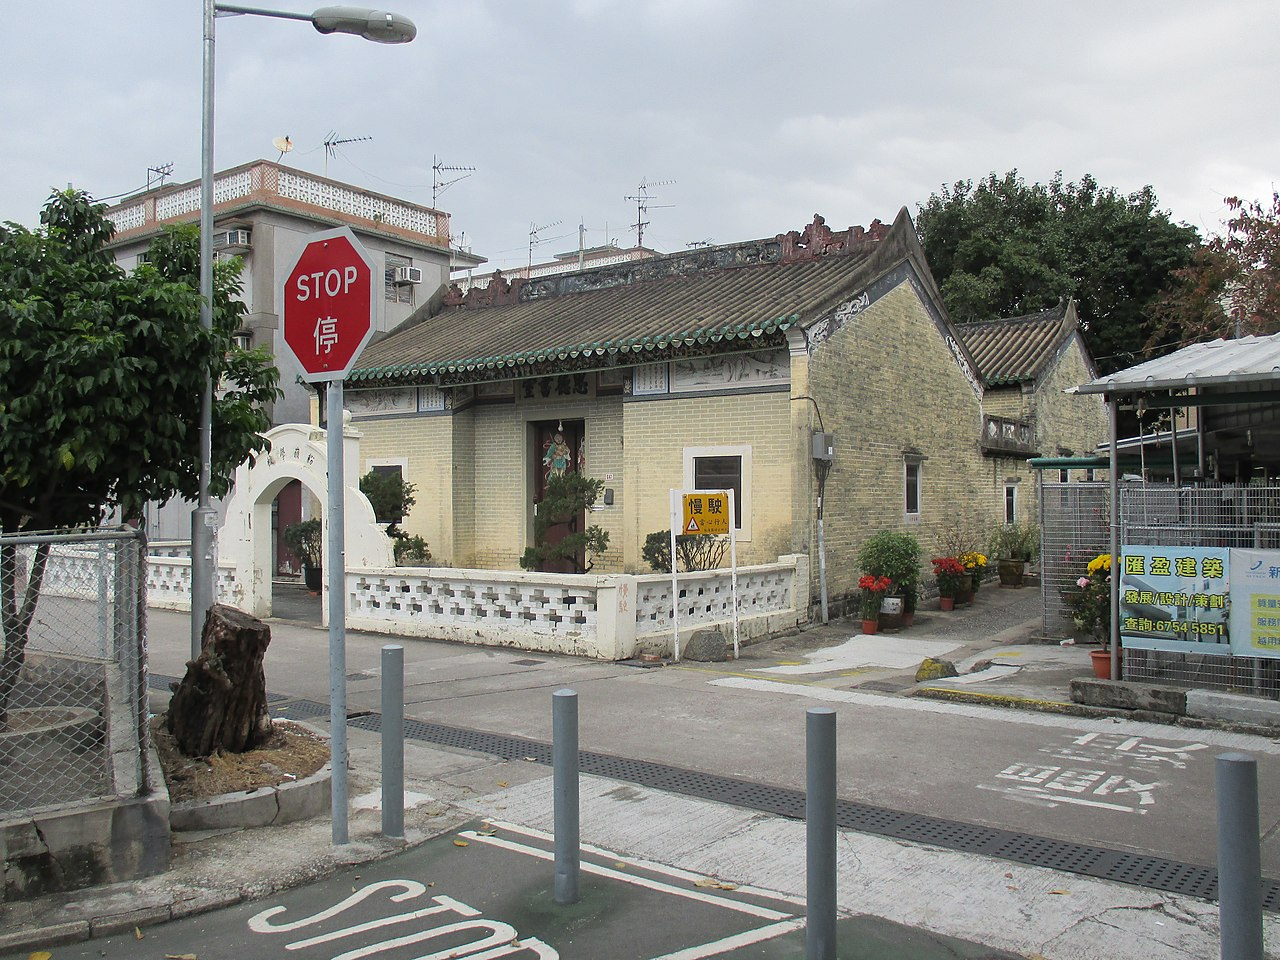Stop: (280, 232, 375, 378)
